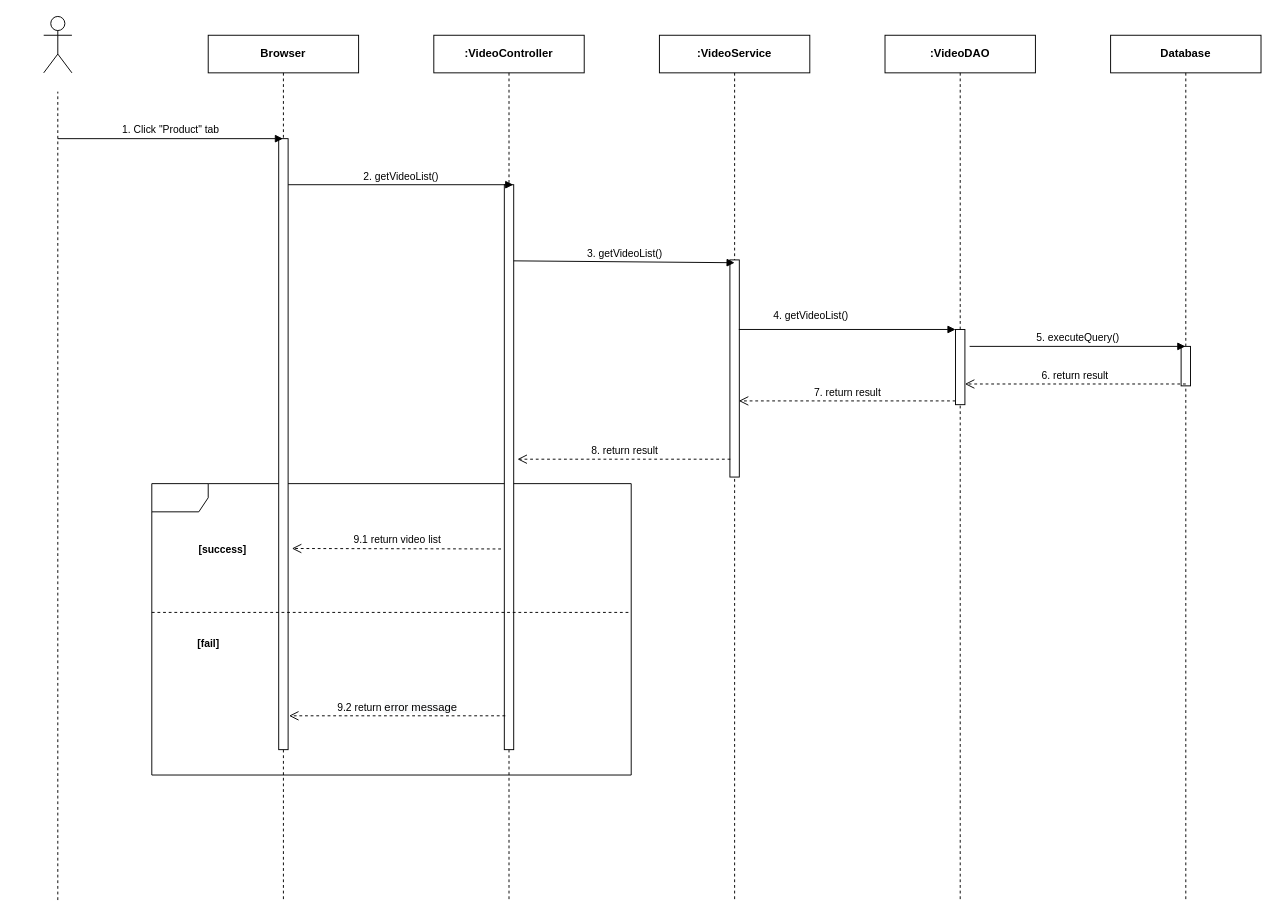
Some shapes in this 1277 by 917 pixel diagram are drawn without their labels. The centre of each missing label's shape, as x and y in pixels:
"Admin, Manager" goes at (x=57, y=44).
"alt" goes at (x=391, y=629).
